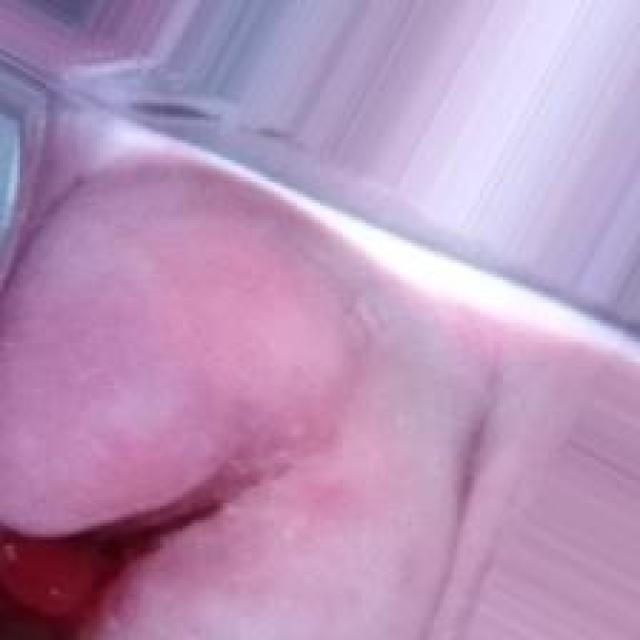type-1: (1, 142, 458, 640)
